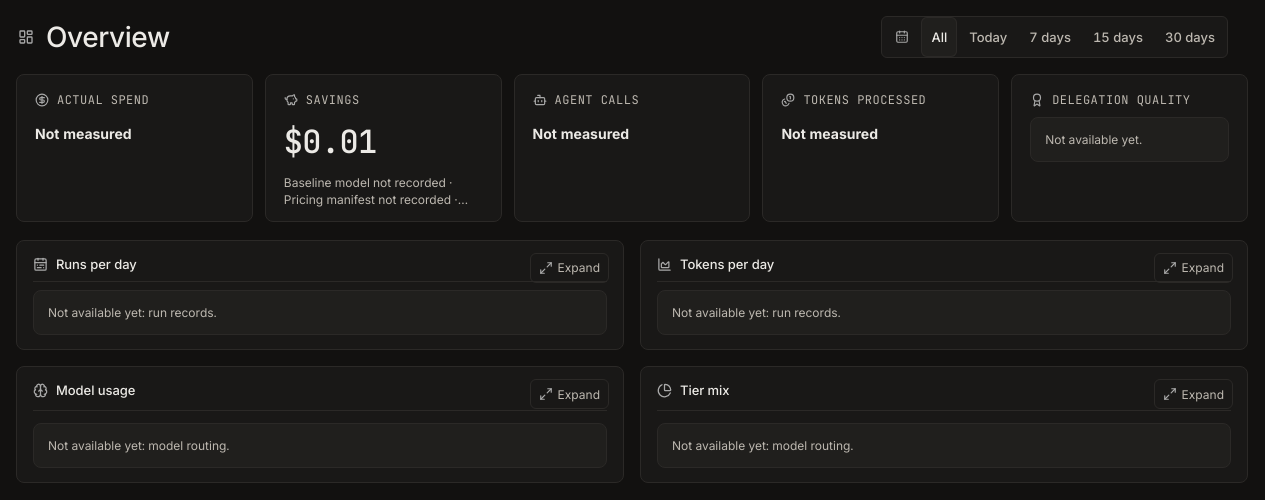
Test: OMN-21015 AC7: the Overview page › Q5: Today is explicitly unavailable and All time restores the exact legacy figure without borrowing a ratio
This screenshot has width=1265, height=500.
expect the text with class "local-dashboard-metric" reads "$0.01": met, box [284,120,377,163]
Click the radio button with aria-label "Today (UTC)" at (988, 37), box [959,17,1017,57]
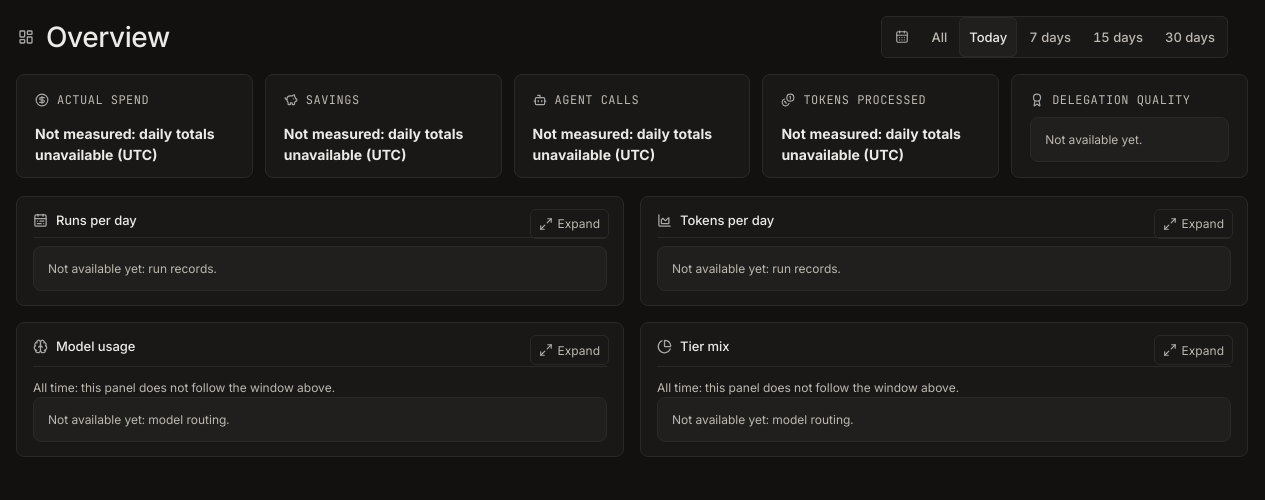
expect the text with class "local-dashboard-metric" below "Savings" reads "Not measured: daily totals unavailable (UTC)": met, box [284,125,463,163]
Click the radio button with aria-label "All time" at (939, 37), box [922,17,957,57]
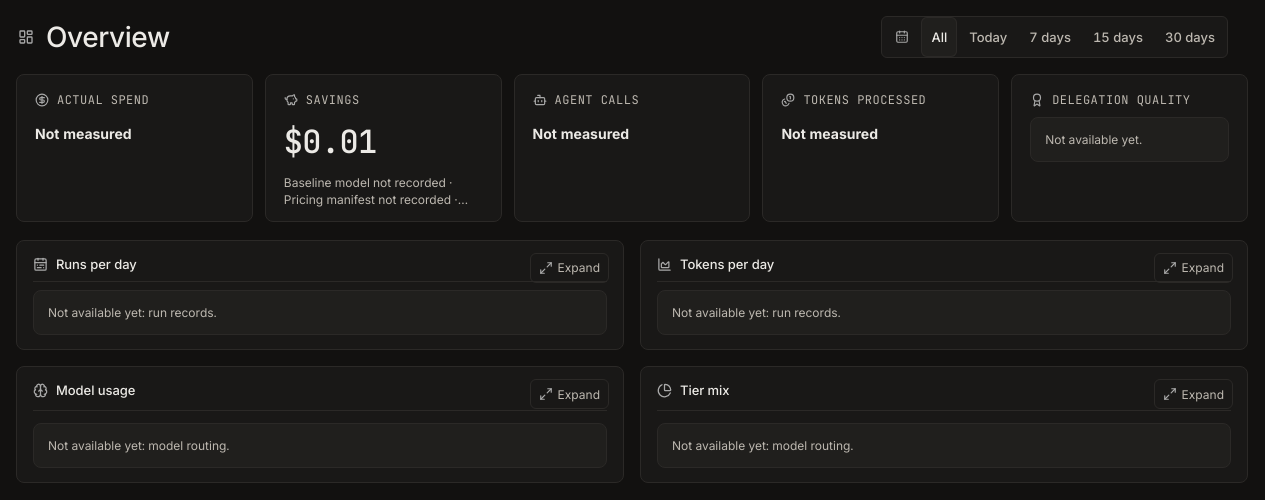
expect the text with class "local-dashboard-metric" reads "$0.01": met, box [284,120,377,163]
